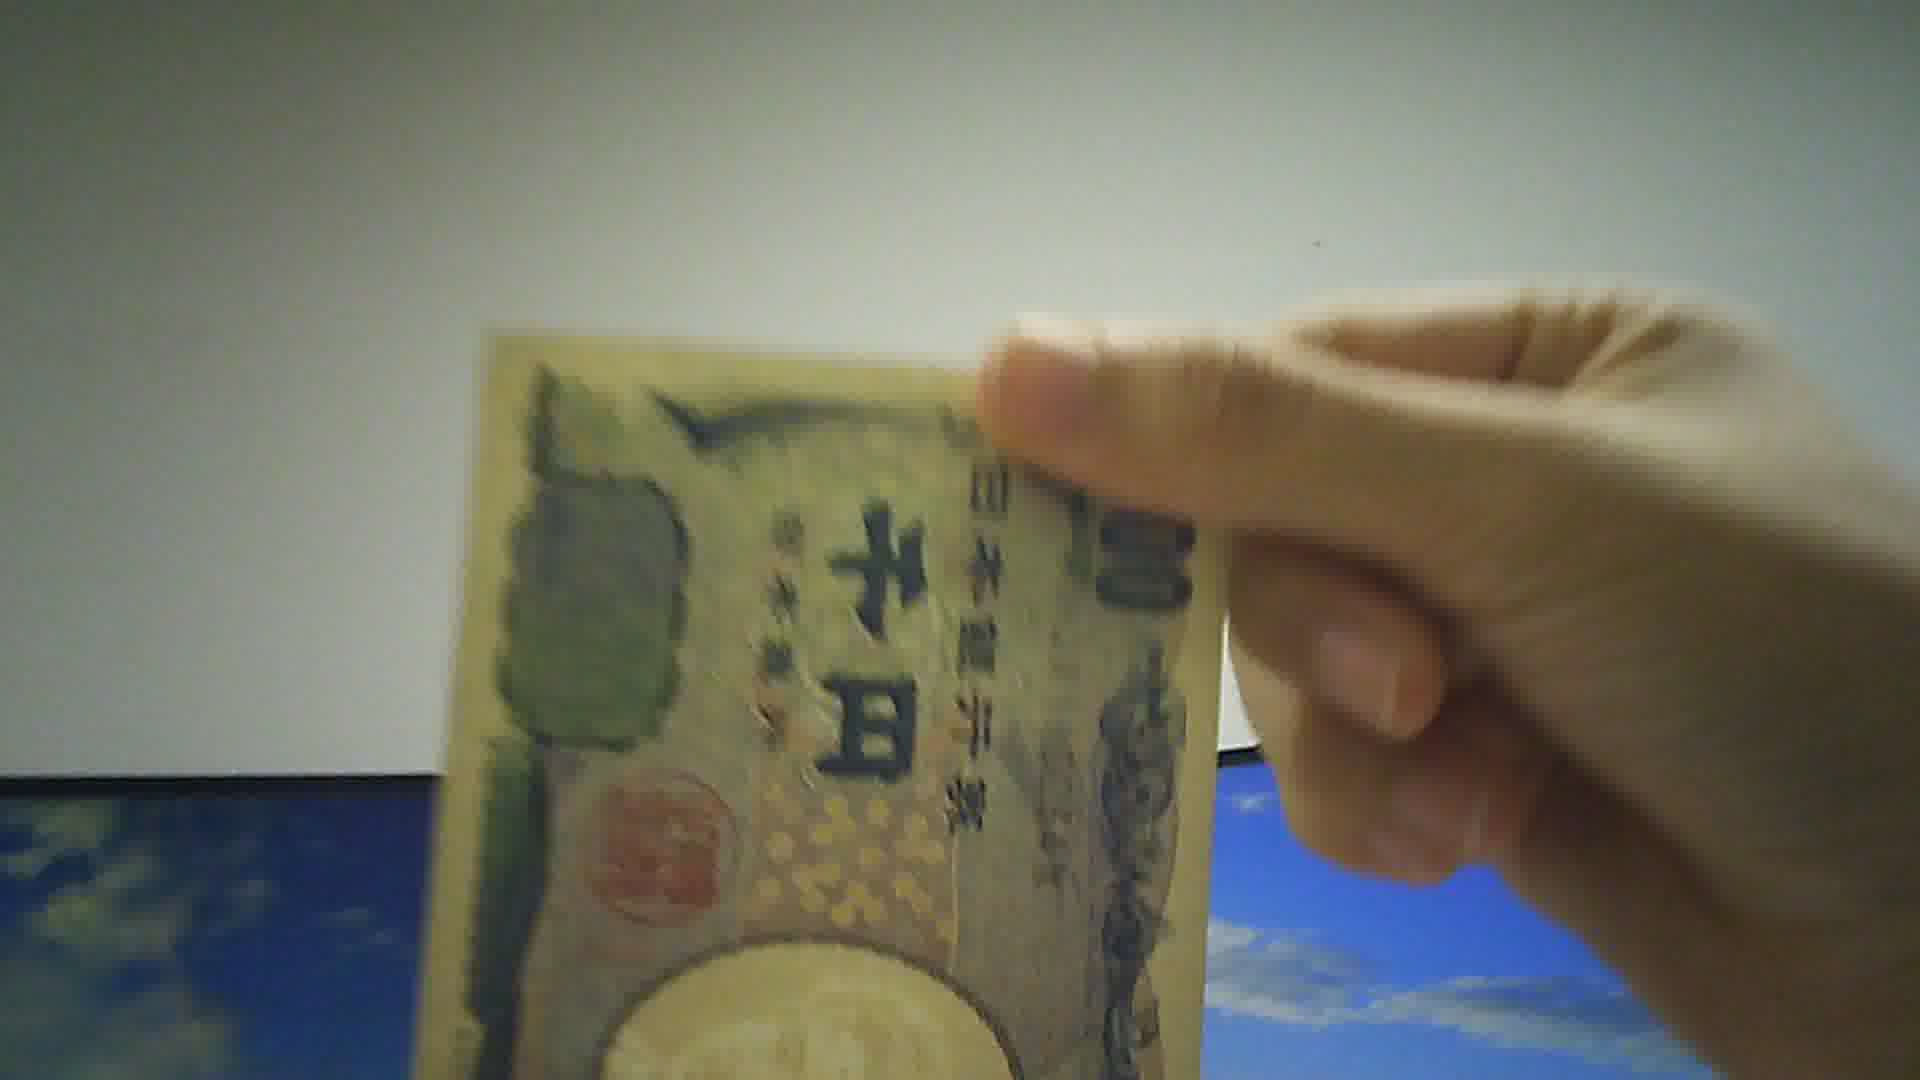1,000 Yen: (433, 310, 1253, 1079)
